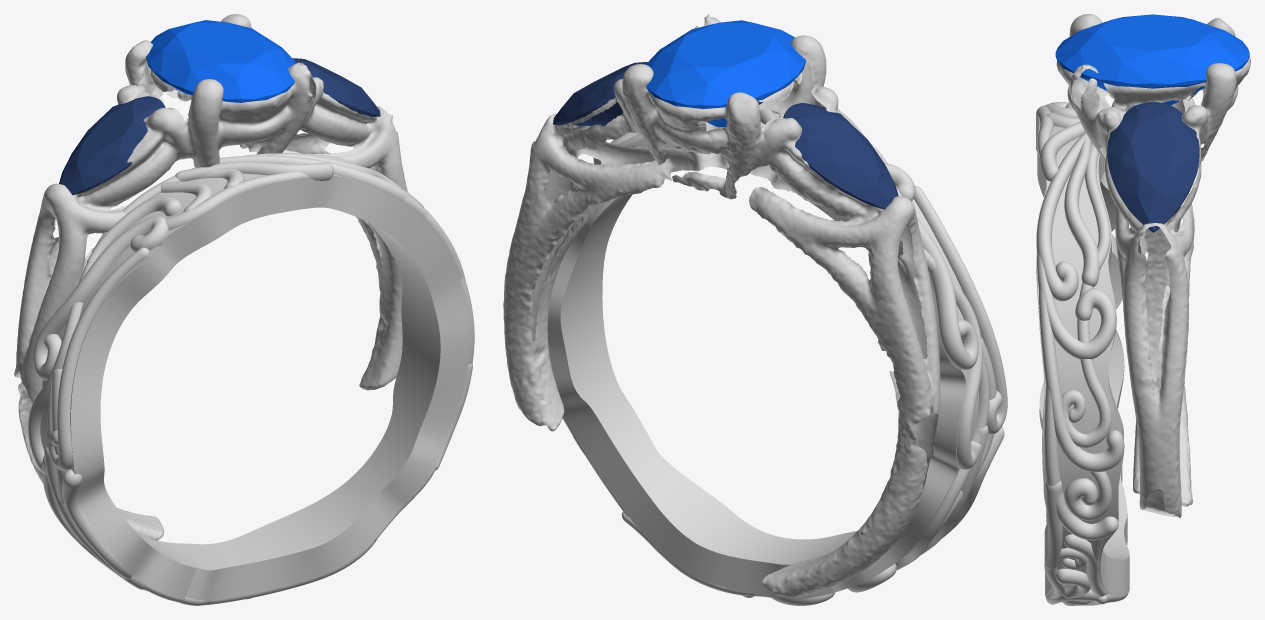
Rendered from MadisonNEWpt_blender.glb.
3 views of the same model, side by side, from view 1: azimuth 30°, elevation 25°; view 2: azimuth 150°, elevation 25°; view 3: azimuth 270°, elevation 25° (orthographic). The views are drawn at different scales.
Parts seen in each view (by area): view 1: New Madison PT for 3d model, Madison sapphire for 3d model, Madison tanzanite for 3d model, Madison tanzanite for 3d model.001; view 2: New Madison PT for 3d model, Madison sapphire for 3d model, Madison tanzanite for 3d model, Madison tanzanite for 3d model.001; view 3: New Madison PT for 3d model, Madison sapphire for 3d model, Madison tanzanite for 3d model.001.
Part boxes in pixels (x1,y1,x2,y2): New Madison PT for 3d model: [14, 14, 474, 605]; Madison sapphire for 3d model: [146, 20, 295, 102]; Madison tanzanite for 3d model: [59, 96, 165, 195]; Madison tanzanite for 3d model.001: [292, 58, 380, 116]; New Madison PT for 3d model: [503, 14, 1007, 605]; Madison sapphire for 3d model: [646, 20, 805, 127]; Madison tanzanite for 3d model: [783, 103, 898, 209]; Madison tanzanite for 3d model.001: [553, 62, 647, 125]; New Madison PT for 3d model: [1036, 14, 1250, 605]; Madison sapphire for 3d model: [1055, 14, 1249, 105]; Madison tanzanite for 3d model.001: [1107, 101, 1199, 232].
Size of the model in its own units: 21.06 by 25.37 by 8.94.
